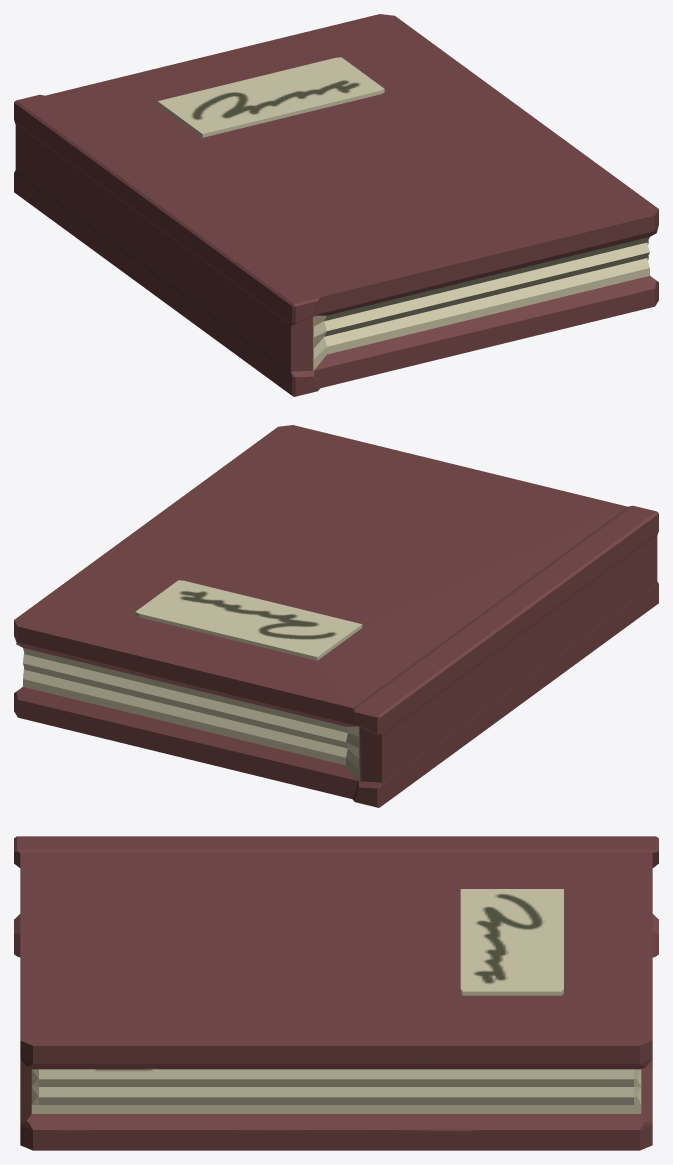
Rendered from journal.glb.
The picture shows the model from 3 angles, top to bottom: view 1: azimuth 30°, elevation 25°; view 2: azimuth 150°, elevation 25°; view 3: azimuth 270°, elevation 25°; orthographic projection. The views are drawn at different scales.
Parts seen in each view (by area): view 1: Cube; view 2: Cube; view 3: Cube.
Part boxes in pixels (box(x1,y1,x2,y2)): Cube: box(14, 14, 658, 396); Cube: box(14, 425, 658, 807); Cube: box(14, 836, 658, 1150).
Size of the model in its own units: 1 by 0.2473 by 1.3.
Materials: 1 (1 with a texture image).
